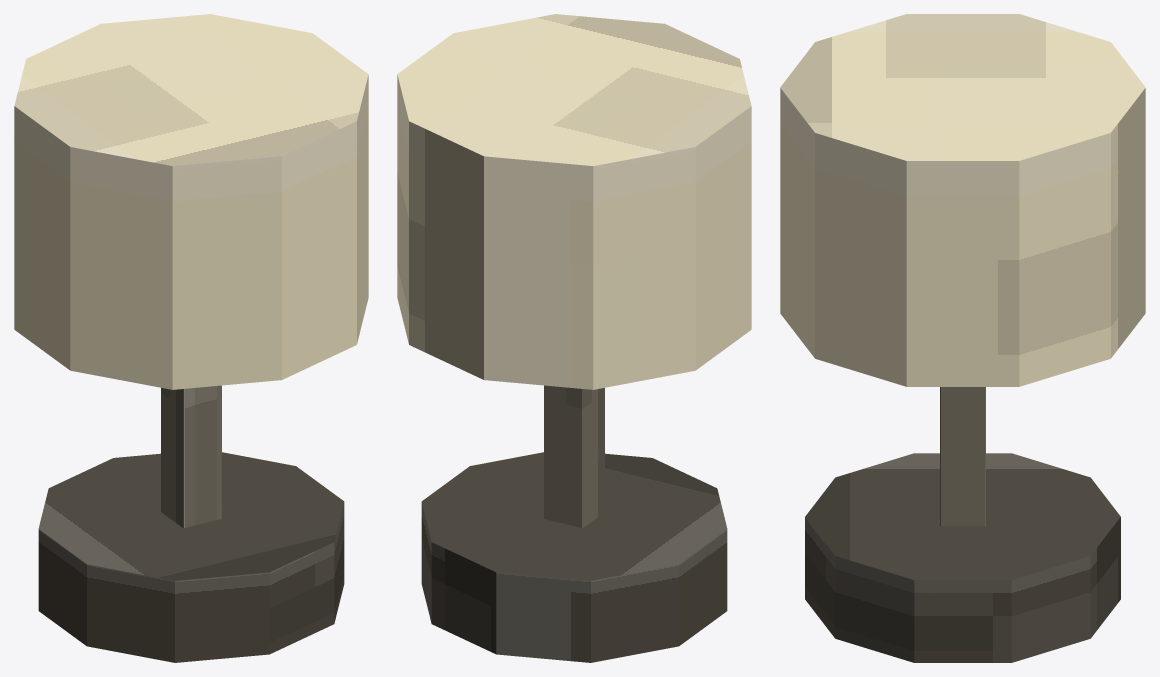
Rendered from table_lamp_ivory.glb.
3 views of the same model, side by side, from view 1: azimuth 30°, elevation 25°; view 2: azimuth 150°, elevation 25°; view 3: azimuth 270°, elevation 25° (orthographic).
Parts seen in each view (by area): view 1: OrbLight, TableLampBase, TableLampStem; view 2: OrbLight, TableLampBase, TableLampStem; view 3: OrbLight, TableLampBase, TableLampStem.
Part boxes in pixels (left/top/right/bottom): OrbLight: left=14, top=14, right=368, bottom=389; TableLampBase: left=38, top=452, right=344, bottom=662; TableLampStem: left=161, top=385, right=221, bottom=527; OrbLight: left=397, top=14, right=751, bottom=389; TableLampBase: left=421, top=452, right=727, bottom=662; TableLampStem: left=544, top=385, right=604, bottom=527; OrbLight: left=780, top=14, right=1145, bottom=386; TableLampBase: left=805, top=453, right=1120, bottom=662; TableLampStem: left=940, top=387, right=985, bottom=526.
Bounding box in the file's own units: 0.4185 × 0.68 × 0.44.
1 material, 1 textured.
